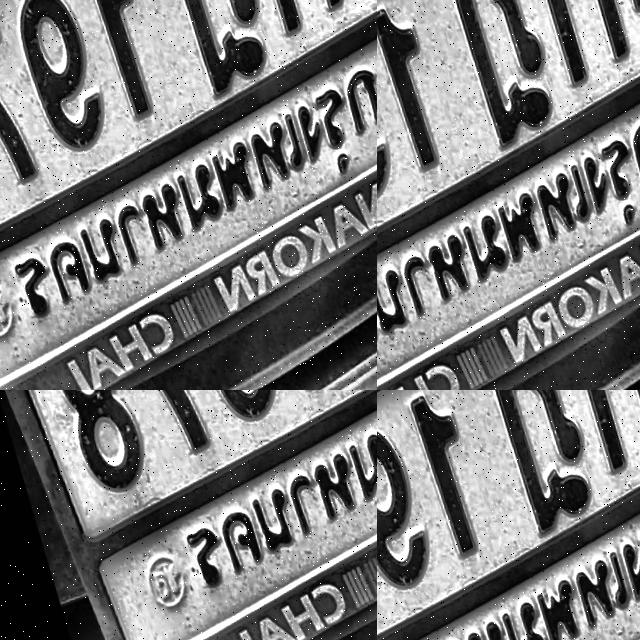license-plate: (377, 390, 640, 640)
